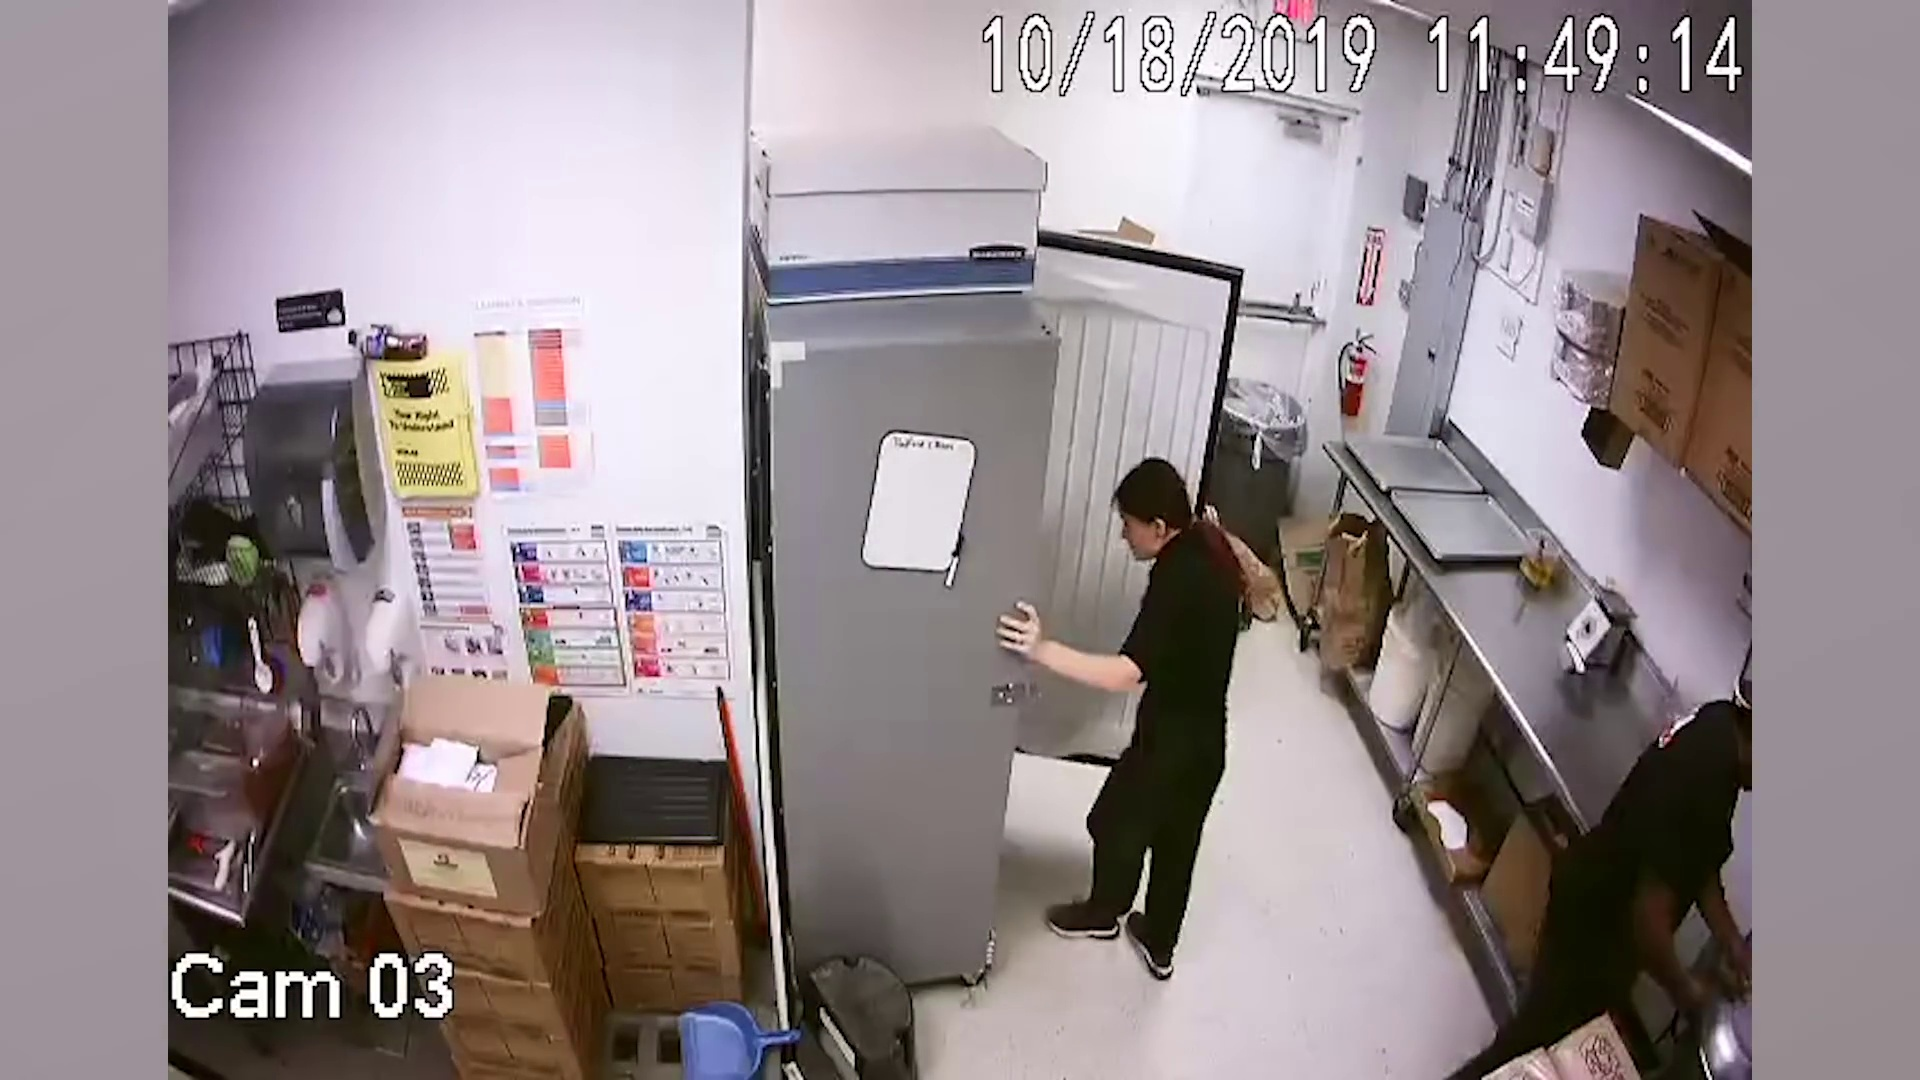face: (1119, 505, 1158, 556)
